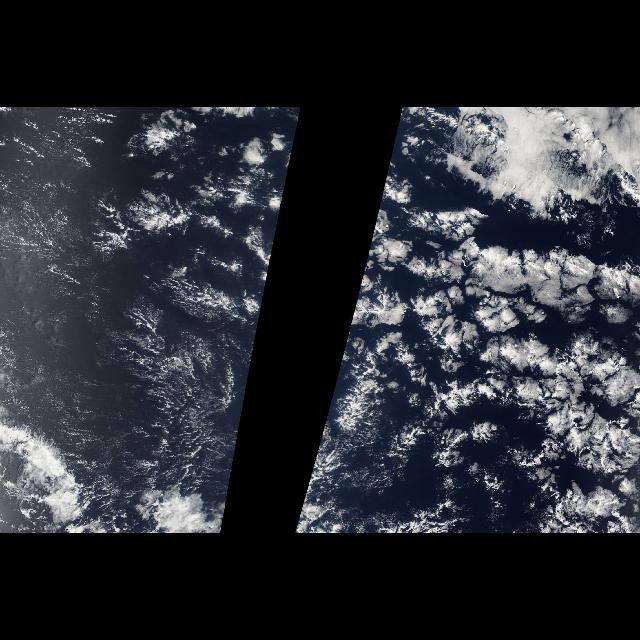Fish: (328, 370, 520, 476)
Flower: (295, 123, 639, 525), (124, 120, 300, 332)
Sugar: (4, 113, 260, 503)
